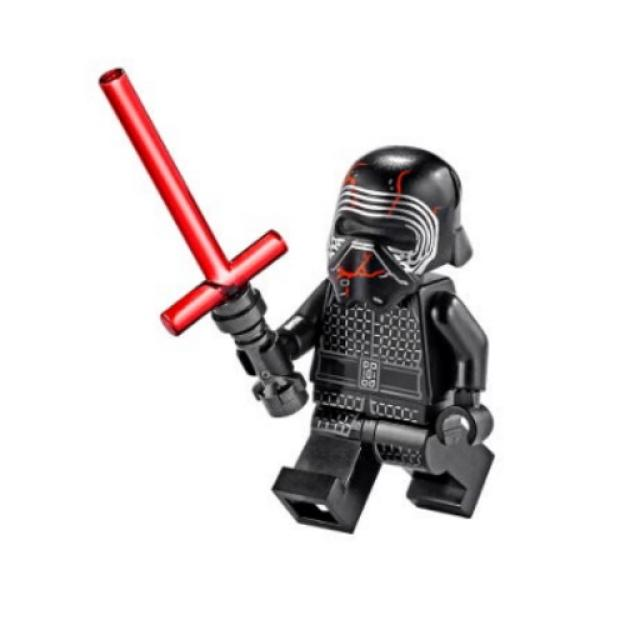Lego-Minifigures: (185, 121, 532, 552)
